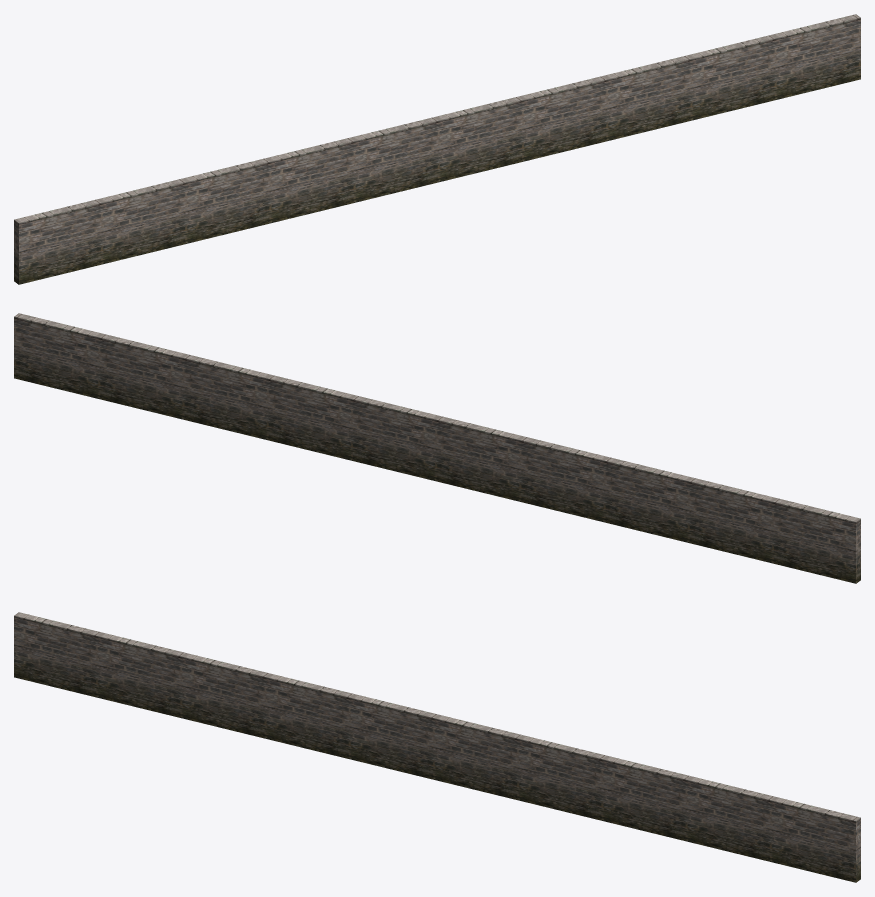
Rendered from LowWallStone_100.fbx.
The picture shows the model from 3 angles, top to bottom: view 1: azimuth 30°, elevation 25°; view 2: azimuth 150°, elevation 25°; view 3: azimuth 330°, elevation 25°; orthographic projection.
Visible parts, largest first — view 1: lod_high; view 2: lod_high; view 3: lod_high.
Part boxes in pixels (bbox=[...]): lod_high: bbox=[14, 14, 860, 284]; lod_high: bbox=[14, 313, 860, 583]; lod_high: bbox=[14, 612, 860, 882].
Bounding box in the file's own units: 10000 × 700 × 100.
1 material, 1 textured.
